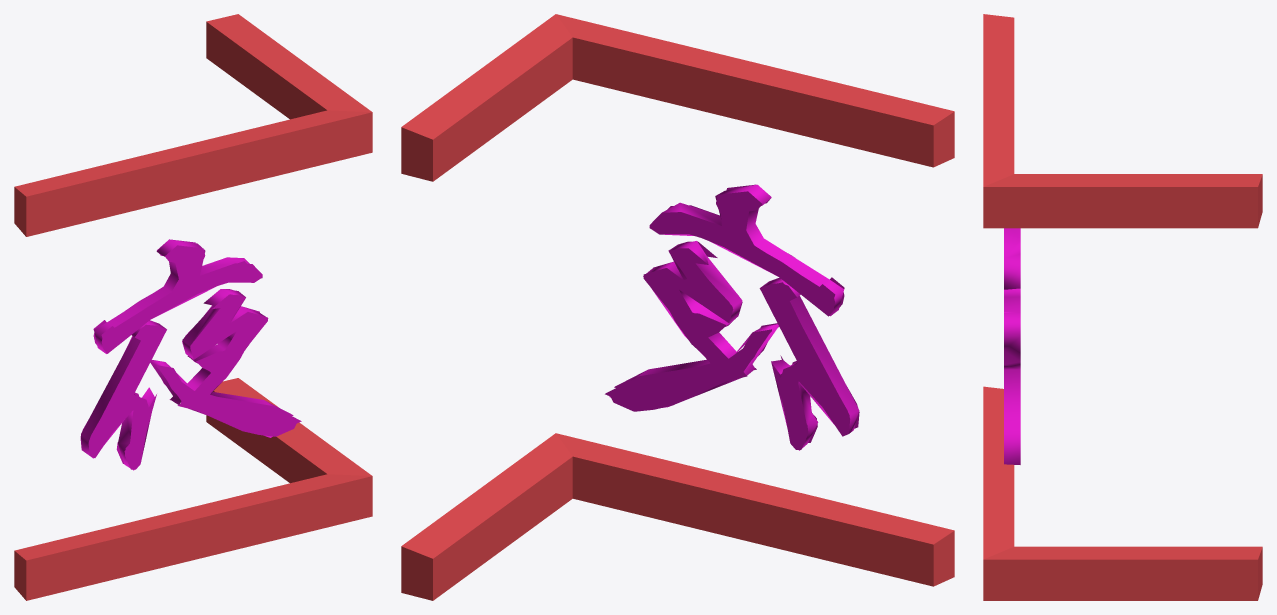
File: Night.fbx
3 renders of one model, left to right at view 1: azimuth 30°, elevation 25°; view 2: azimuth 150°, elevation 25°; view 3: azimuth 270°, elevation 25°, orthographic. The views are drawn at different scales.
Visible parts, largest first — view 1: Plane.009, Plane.011, Text.002; view 2: Plane.011, Plane.009, Text.002; view 3: Plane.009, Plane.011, Text.002.
Part boxes in pixels (left/top/right/bottom): Plane.009: left=14, top=14, right=372, bottom=236; Plane.011: left=14, top=378, right=372, bottom=600; Text.002: left=80, top=239, right=301, bottom=470; Plane.011: left=401, top=433, right=954, bottom=600; Plane.009: left=401, top=14, right=954, bottom=181; Text.002: left=605, top=184, right=859, bottom=450; Plane.009: left=983, top=14, right=1262, bottom=228; Plane.011: left=983, top=386, right=1262, bottom=600; Text.002: left=1004, top=228, right=1020, bottom=464.
Bounding box in the file's own units: 8.97 × 10 × 6.12.
